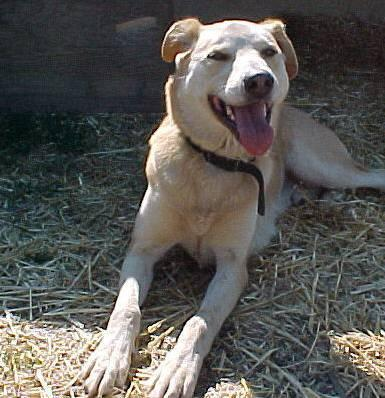dog: (78, 18, 384, 397)
